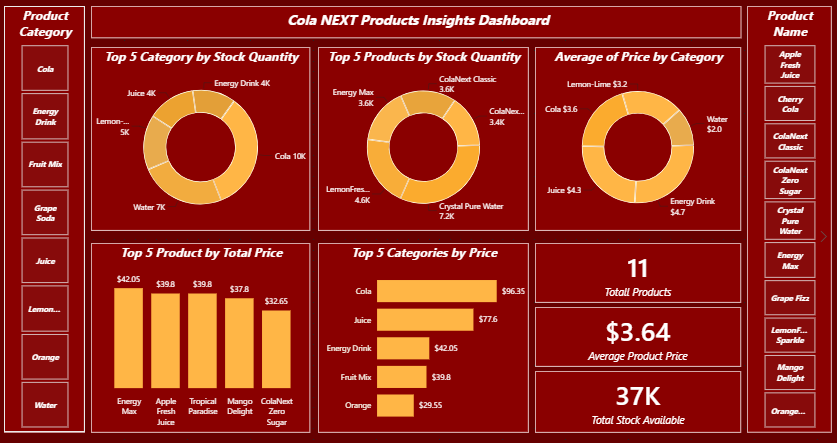

Layout of this report page (visuals, bound fields, positions):
{"tool":"powerbi","page":{"name":"Products Insights","canvas":[1280,720],"ordinal":4},"visuals":[{"type":"textbox","box":[141.4,28.3,990.8,48.8],"z":0},{"type":"slicer","title":"Product Category","fields":{"Values":["colanextdb products.category"]},"box":[9,28.3,123.4,650.3],"z":1000},{"type":"slicer","title":"Product Name","fields":{"Values":["colanextdb products.product_name"]},"box":[1141.2,28.3,128.5,650.3],"z":2000},{"type":"columnChart","title":"Top 5 Product by Total Price","fields":{"Category":["colanextdb products.product_name"],"Y":["Sum(colanextdb products.price)"]},"box":[141.4,389.4,334.1,289.2],"z":3000},{"type":"donutChart","title":"Top 5 Category by Stock Quantity","fields":{"Category":["colanextdb products.category"],"Y":["Sum(colanextdb products.stock_quantity)"]},"box":[141.4,91.2,334.1,280.2],"z":4000},{"type":"donutChart","title":"Top 5 Products by Stock Quantity","fields":{"Y":["Sum(colanextdb products.stock_quantity)"],"Category":["colanextdb products.product_name"]},"box":[487.1,91.2,321.3,280.2],"z":5000},{"type":"donutChart","title":"Average of Price by Category","fields":{"Category":["colanextdb products.category"],"Y":["Avg(colanextdb products.price)"]},"box":[818.6,91.2,313.6,280.2],"z":6000},{"type":"barChart","title":"Top 5 Categories by Price","fields":{"Category":["colanextdb products.category"],"Y":["Sum(colanextdb products.price)"]},"box":[487.1,389.4,321.3,289.2],"z":7000},{"type":"card","fields":{"Values":["Sum(colanextdb products.stock_quantity)"]},"box":[818.6,584.7,313.6,93.8],"z":8000},{"type":"card","fields":{"Values":["Avg(colanextdb products.price)"]},"box":[818.6,488.4,313.6,91.2],"z":9000},{"type":"card","fields":{"Values":["Count(colanextdb products.product_name)"]},"box":[818.6,389.4,313.6,91.2],"z":10000}]}

Visuals, with their boxes on the page's 1280x720 design canvas (x1, y1, x2, y2). These are canvas units, not pixel positions in the 837x443 screenshot, which may show the page scaled, cropped or inside an application window:
textbox: {"left": 141, "top": 28, "right": 1132, "bottom": 77}
"Product Category" slicer: {"left": 9, "top": 28, "right": 132, "bottom": 679}
"Product Name" slicer: {"left": 1141, "top": 28, "right": 1270, "bottom": 679}
"Top 5 Product by Total Price" columnChart: {"left": 141, "top": 389, "right": 476, "bottom": 679}
"Top 5 Category by Stock Quantity" donutChart: {"left": 141, "top": 91, "right": 476, "bottom": 371}
"Top 5 Products by Stock Quantity" donutChart: {"left": 487, "top": 91, "right": 808, "bottom": 371}
"Average of Price by Category" donutChart: {"left": 819, "top": 91, "right": 1132, "bottom": 371}
"Top 5 Categories by Price" barChart: {"left": 487, "top": 389, "right": 808, "bottom": 679}
card - Sum(colanextdb products.stock_quantity): {"left": 819, "top": 585, "right": 1132, "bottom": 678}
card - Avg(colanextdb products.price): {"left": 819, "top": 488, "right": 1132, "bottom": 580}
card - Count(colanextdb products.product_name): {"left": 819, "top": 389, "right": 1132, "bottom": 481}
